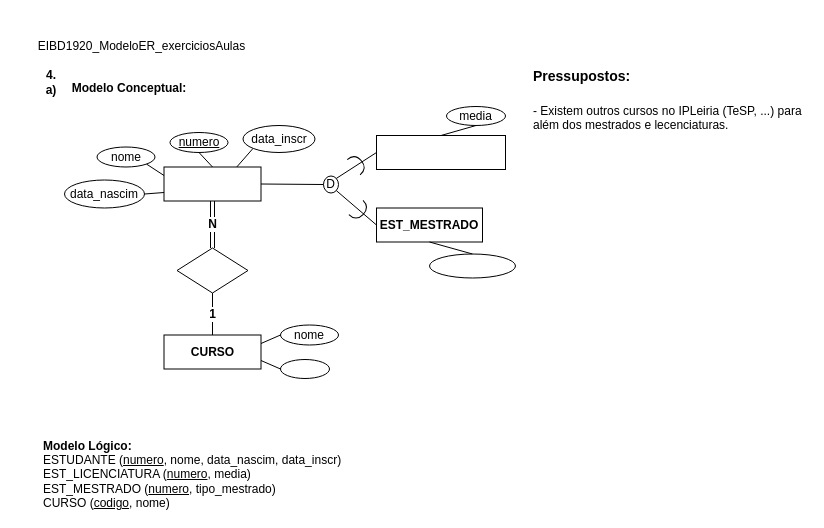
The diagram is 824 pixels wide and 528 high, and some of its shapes have lost their labels. Each missing label, with the centre of its shape:
"codigo" belongs at (305,368).
"EST_LICENCIATURA" belongs at (441,152).
"ESTUDANTE" belongs at (212,183).
"INSCREVER" belongs at (212,270).
"tipo_mestrado" belongs at (472,265).
